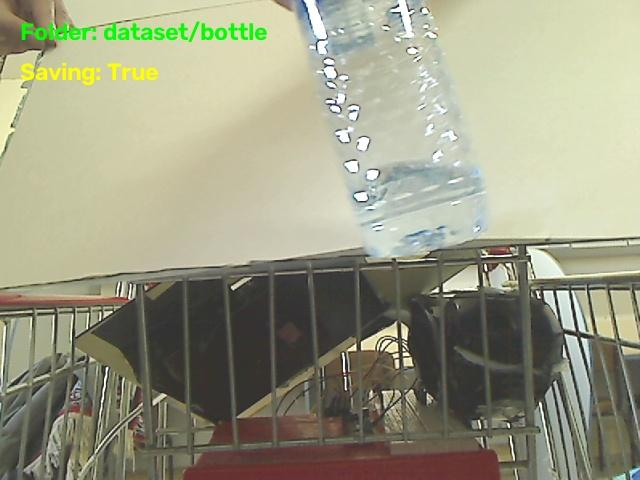Bottle: (297, 0, 486, 255)
